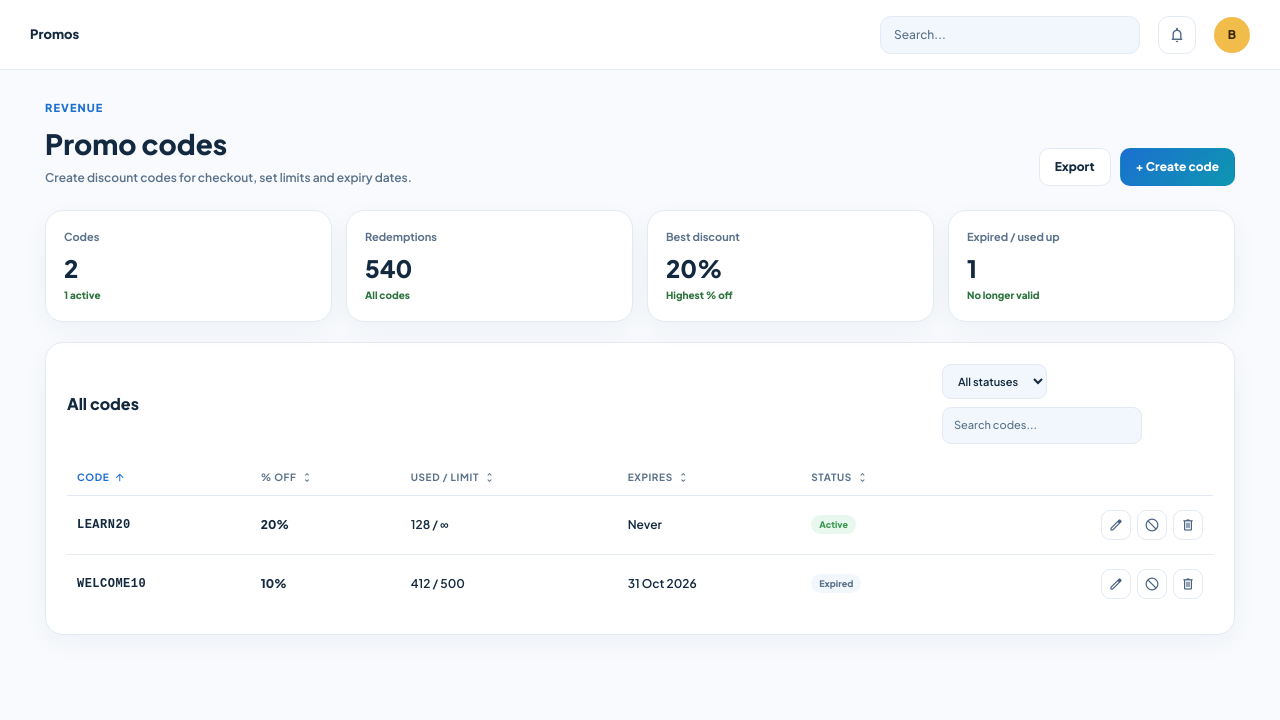
Scenario: admin page details › validates promo codes in the create dialog
The width and height of the screenshot is (1280, 720).
Click the button "+ Create code".
click(1177, 166)  # box x1=1120 y1=148 x2=1235 y2=186
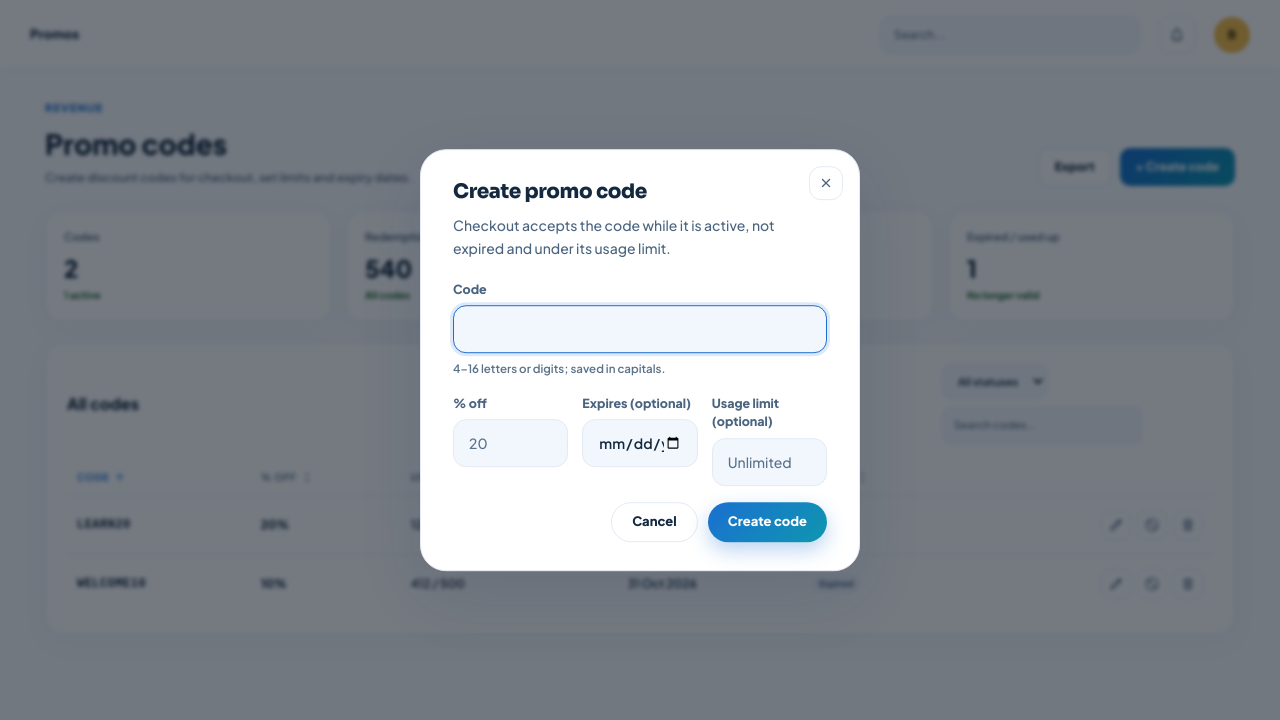
Type "ab" into the field labelled "Code".
click(640, 330); type("ab")  # box x1=453 y1=306 x2=827 y2=354
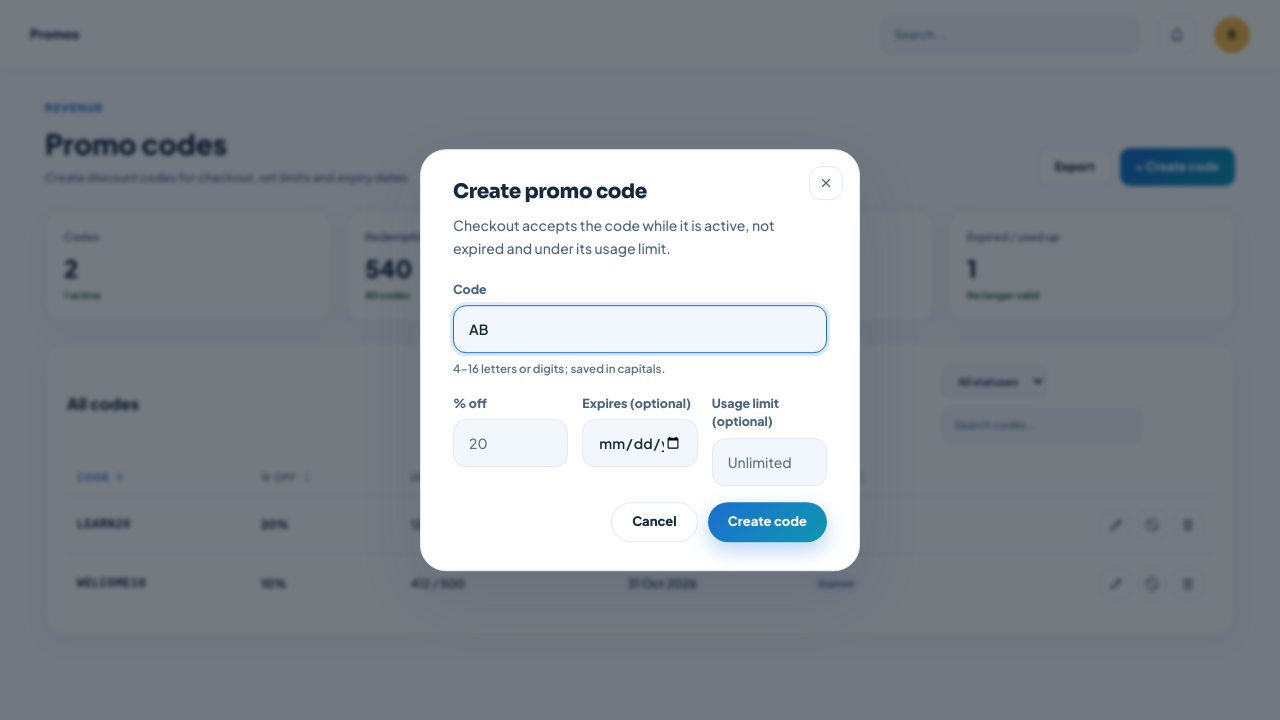
Type "95" into the field labelled "% off".
click(511, 444); type("95")  # box x1=453 y1=420 x2=568 y2=468
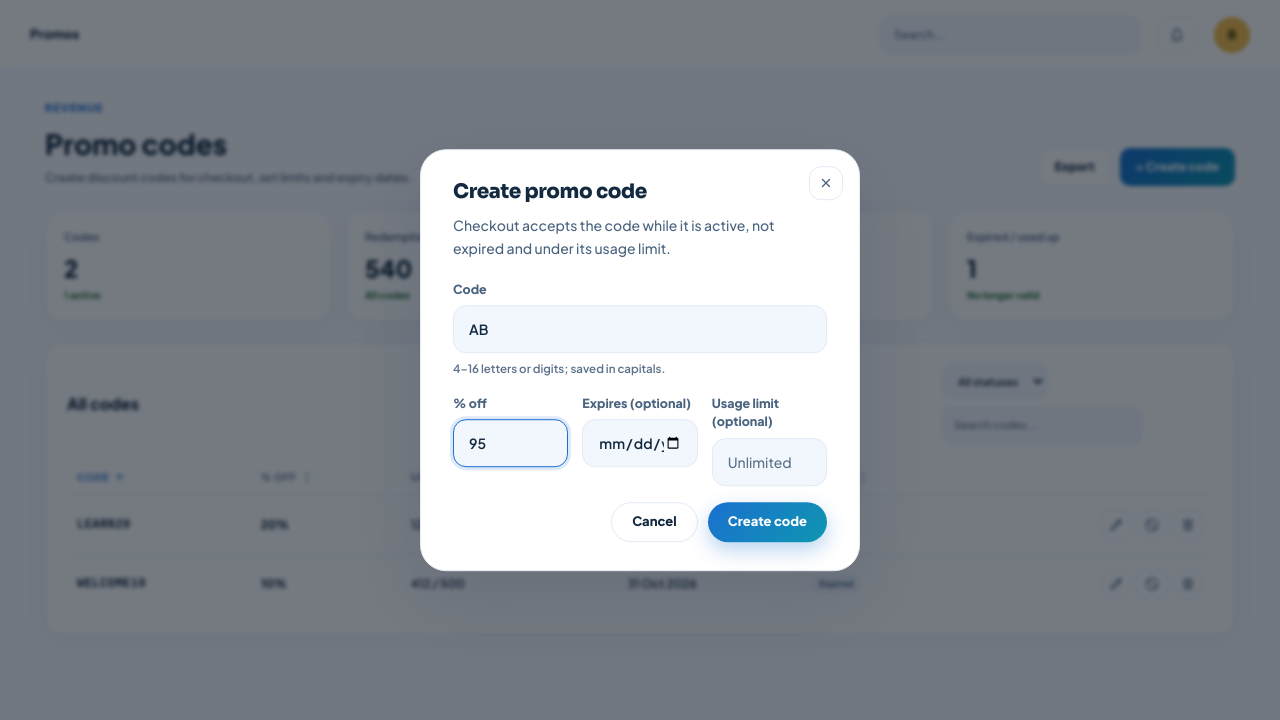
Click the button "Create code".
click(767, 522)  # box x1=708 y1=502 x2=827 y2=542
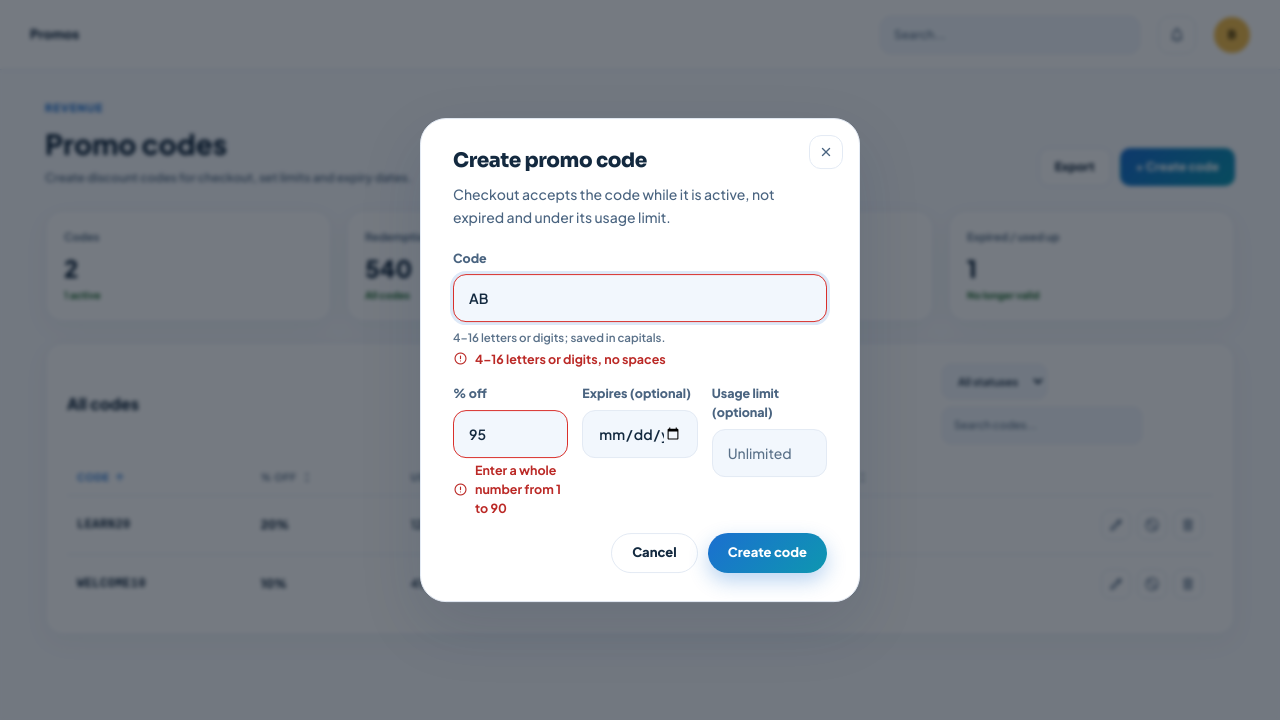
expect the text "4–16 letters or digits, no spaces" is shown: met, box x1=453 y1=350 x2=666 y2=368
expect the text "Enter a whole number from 1 to 90" is shown: met, box x1=453 y1=461 x2=568 y2=517
